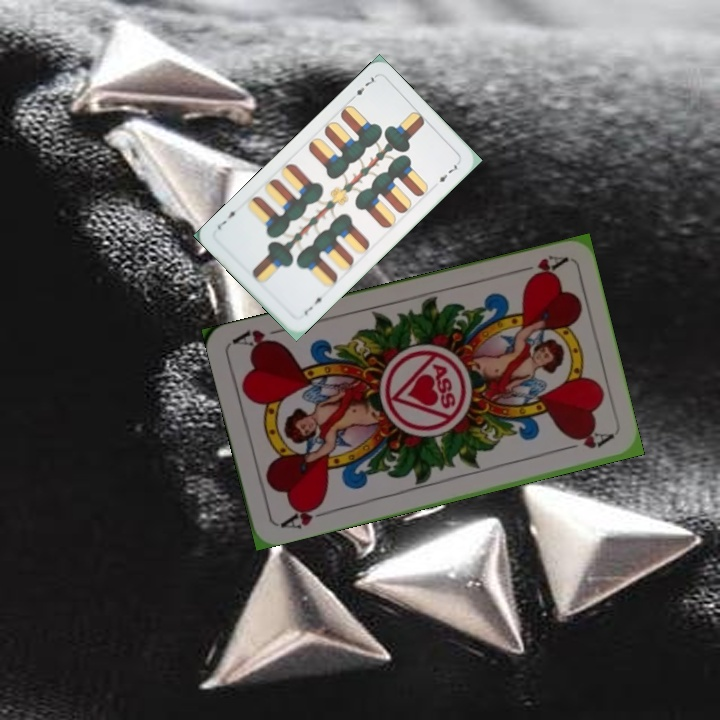E7: (300, 291, 328, 318), (352, 72, 379, 98)
HA: (511, 250, 570, 283), (276, 498, 333, 532)
